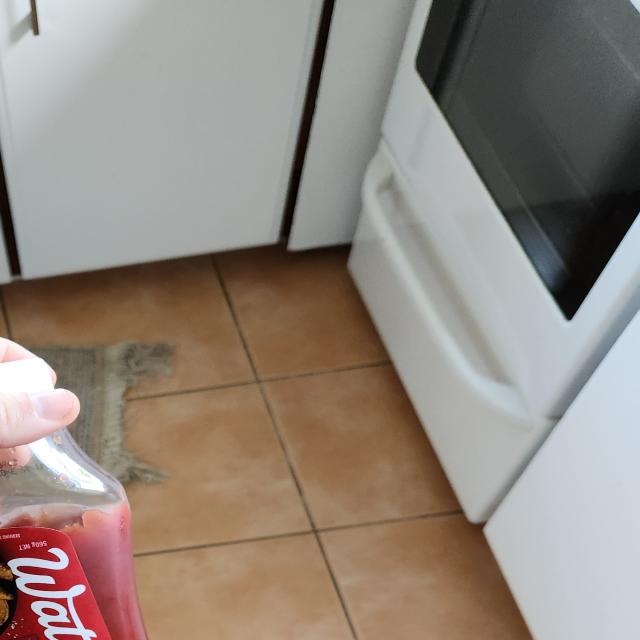ketchup: (0, 355, 190, 640)
